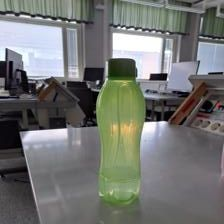bottle: (94, 53, 150, 208)
